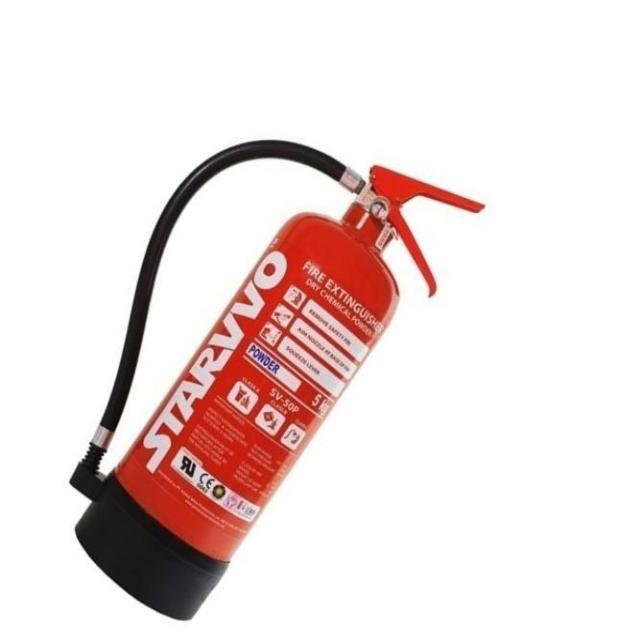fire_extinguisher: (63, 132, 490, 626)
